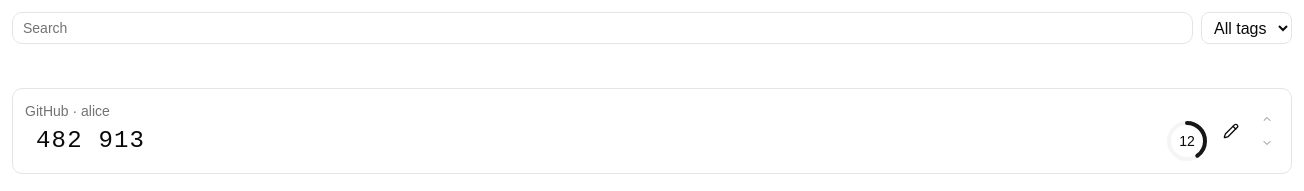
Test: EntryList › reports a refused copy
This screenshot has width=1304, height=191.
Click the button named "Copy code for GitHub" at (91, 141), box x1=25 y1=125 x2=156 y2=157
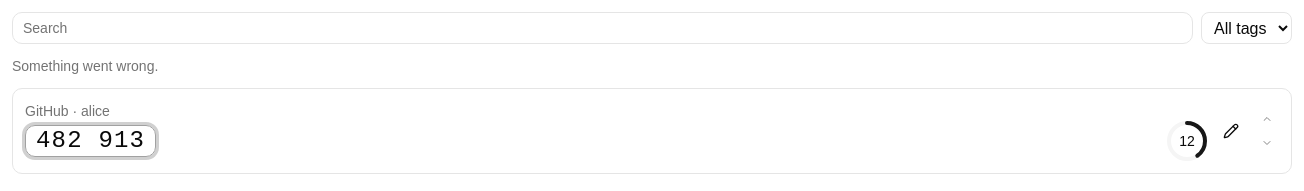
Expected: the message reads "Something went wrong.", x1=12 y1=58 x2=158 y2=74
